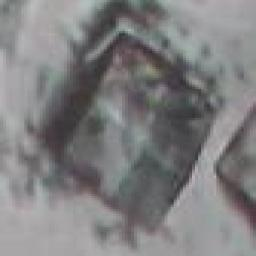crystals: (35, 21, 229, 238)
